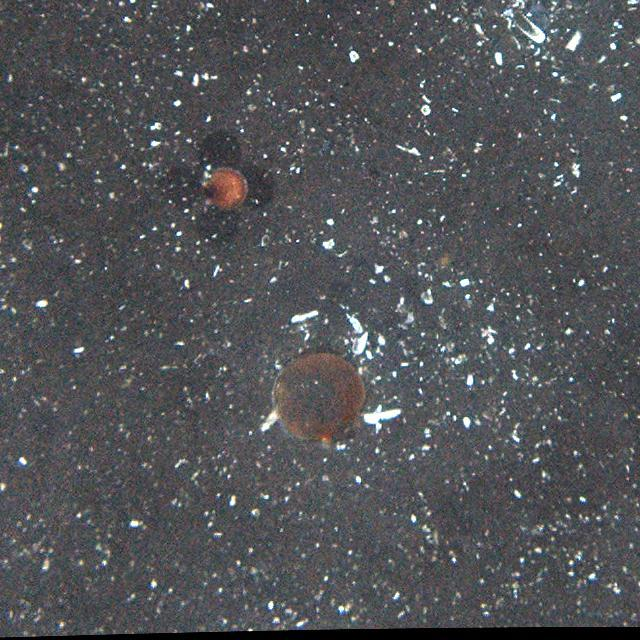scallop: (270, 342, 366, 442), (199, 158, 249, 213)
